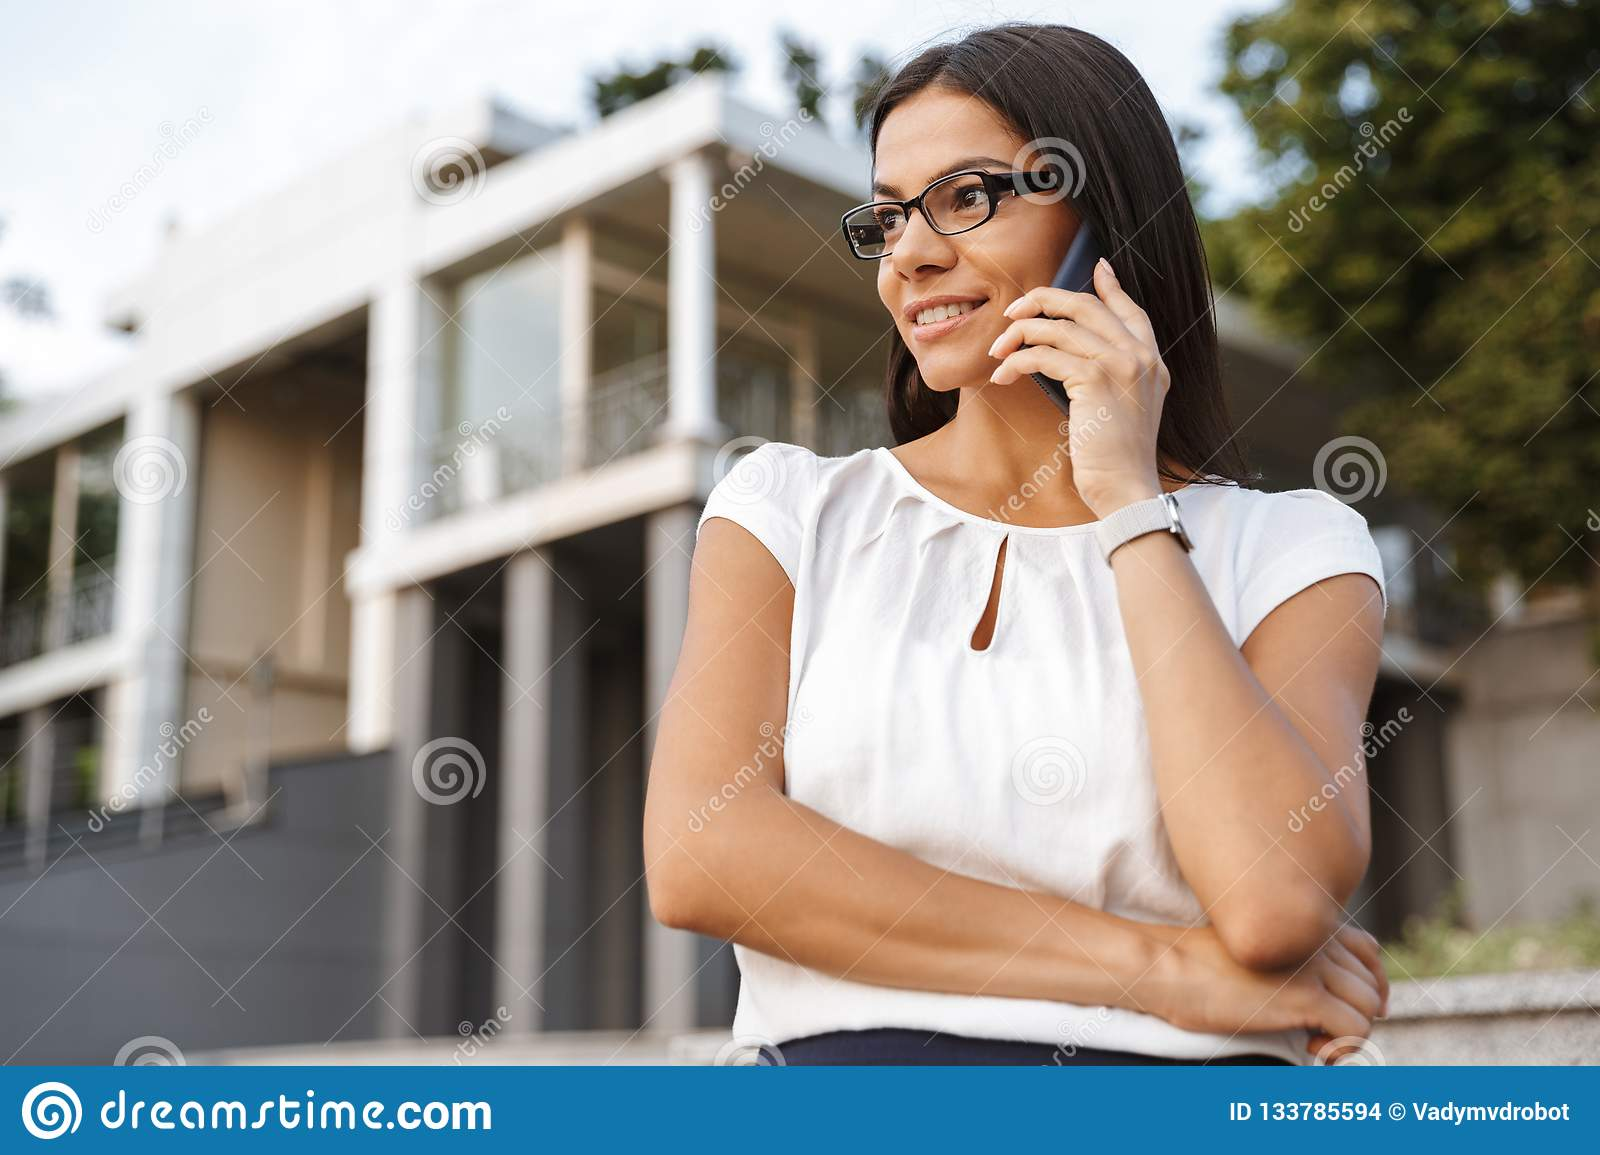phone: (1011, 191, 1145, 436)
talk: (870, 143, 1169, 496)
